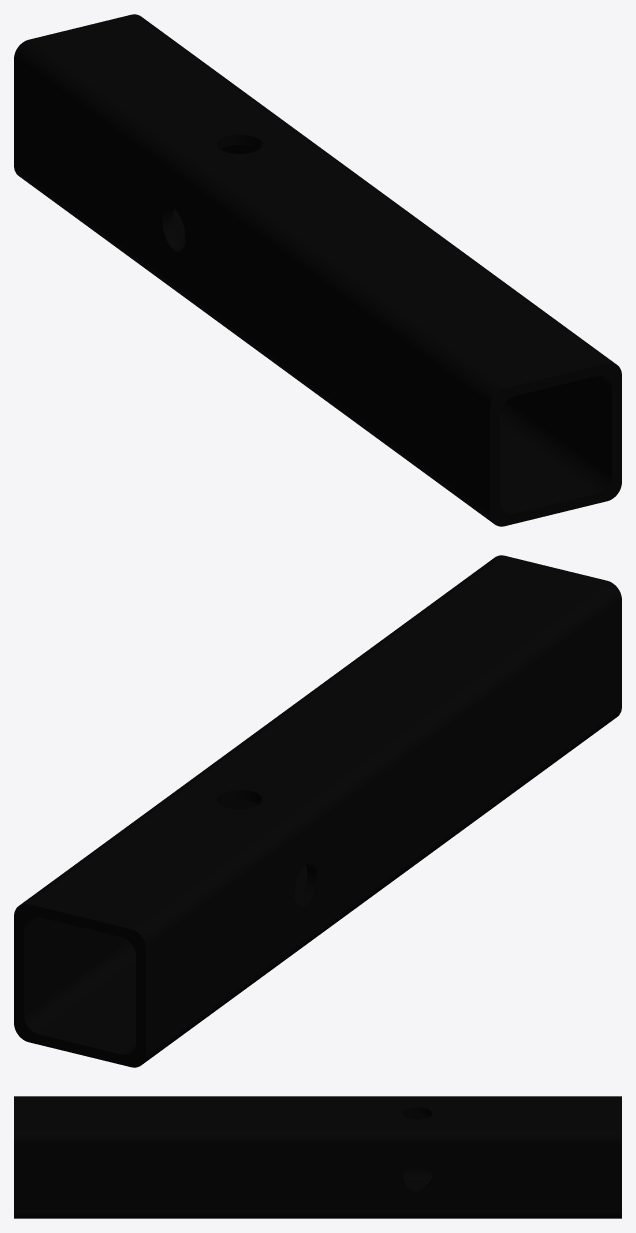
The model's file is Leg.glb.
3 views of the same model, one above another, from view 1: azimuth 30°, elevation 25°; view 2: azimuth 150°, elevation 25°; view 3: azimuth 270°, elevation 25° (orthographic). The views are drawn at different scales.
Visible parts, largest first — view 1: Leg; view 2: Leg; view 3: Leg.
Part boxes in pixels (left/top/right/bottom): Leg: left=14, top=14, right=621, bottom=526; Leg: left=14, top=555, right=621, bottom=1067; Leg: left=14, top=1096, right=621, bottom=1218.
Size of the model in its own units: 0.02 by 0.02 by 0.125.
Materials: 1 (1 with a texture image).
